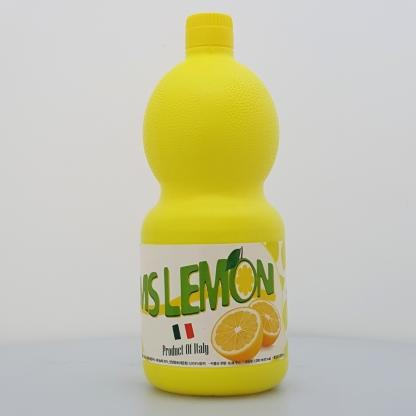-------: (140, 12, 289, 396)
